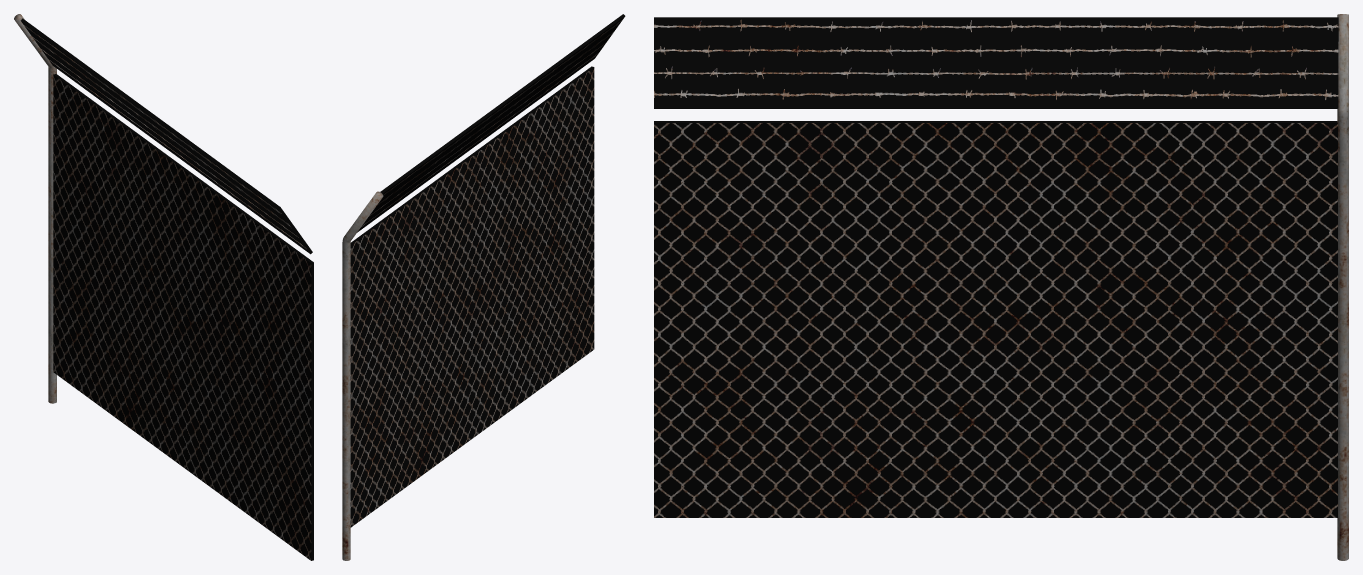
The model's file is Fence1.fbx.
3 renders of one model, left to right at view 1: azimuth 30°, elevation 25°; view 2: azimuth 150°, elevation 25°; view 3: azimuth 270°, elevation 25°, orthographic. The views are drawn at different scales.
Visible parts, largest first — view 1: Cylinder.007; view 2: Cylinder.007; view 3: Cylinder.007.
Part boxes in pixels (box(x1,y1,x2,y2)): Cylinder.007: box(14, 14, 313, 560); Cylinder.007: box(342, 14, 625, 560); Cylinder.007: box(654, 14, 1348, 560).
Bounding box in the file's own units: 76.53 × 690 × 830.
1 material, 1 textured.
